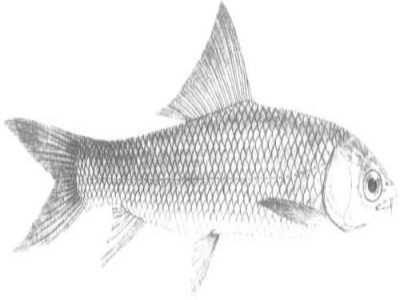rohu: (2, 6, 400, 285)
